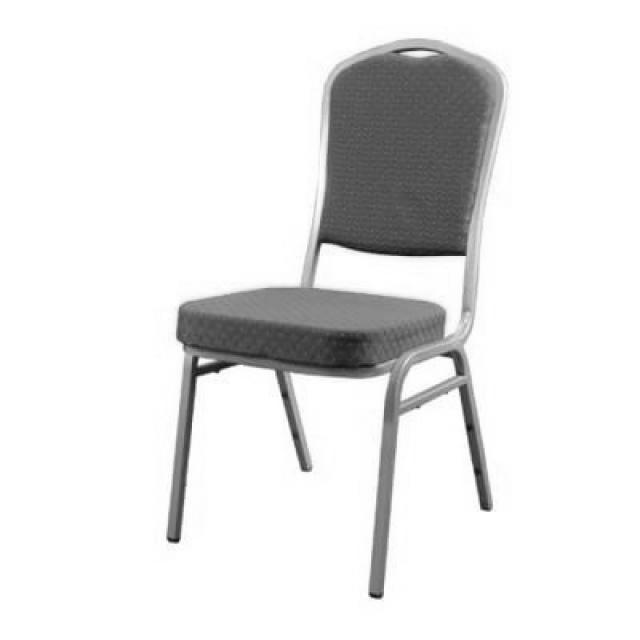chair: (165, 36, 498, 602)
